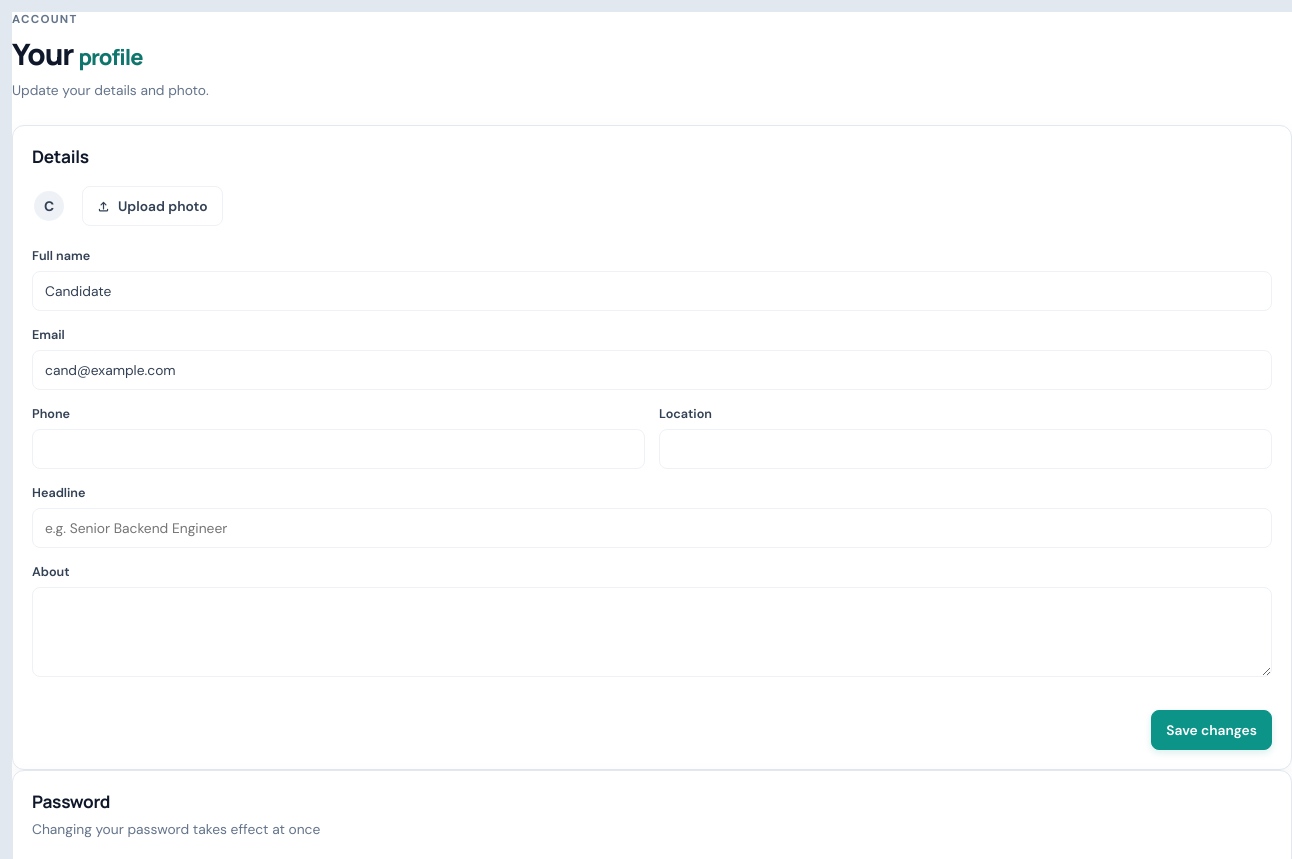
Test: ProfilePage › lets a candidate save their details
Step 1. Replace the text in the field labelled "Full name" with "Casey C" → [652, 291], box 32,271 -> 1272,311
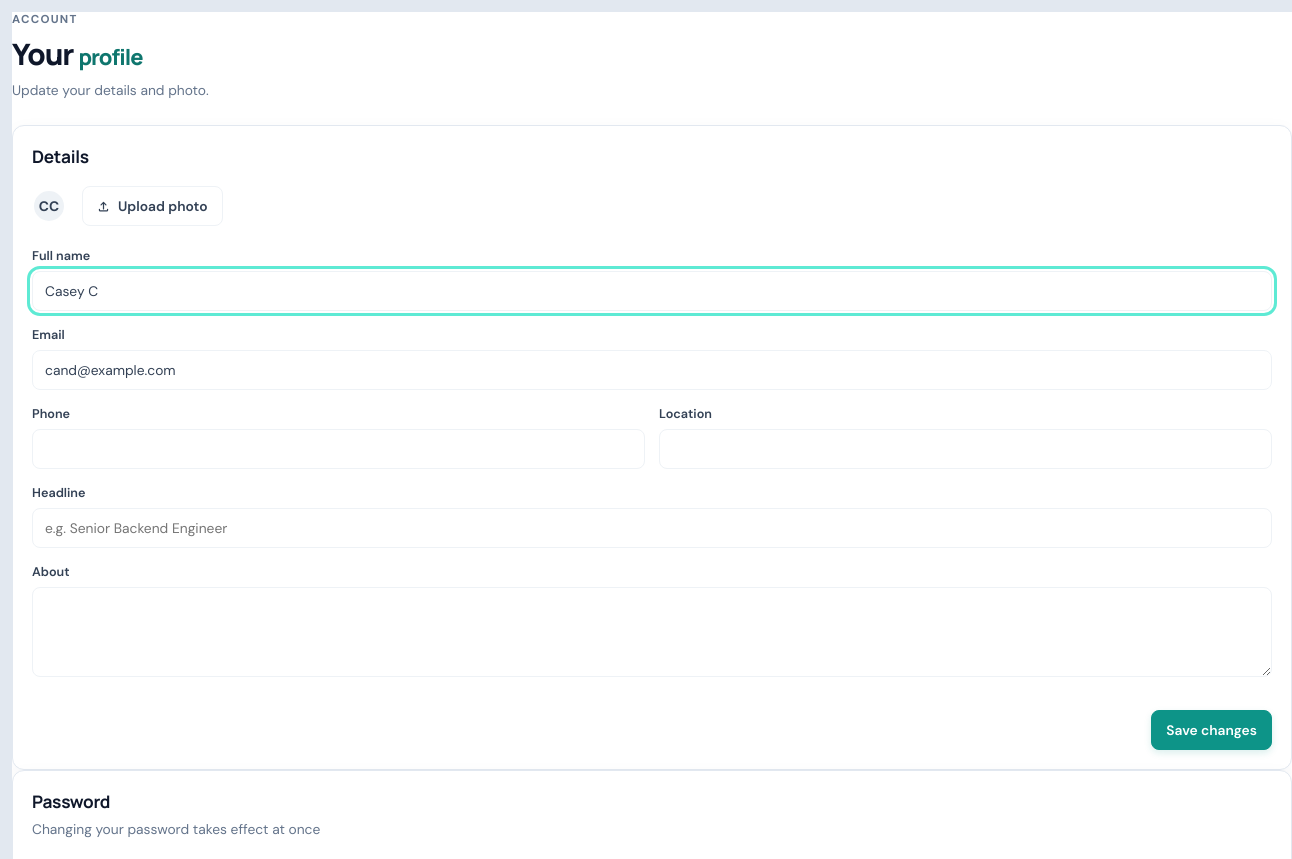
Step 2. Click the button "Save changes" → [1212, 730], box 1151,710 -> 1272,750
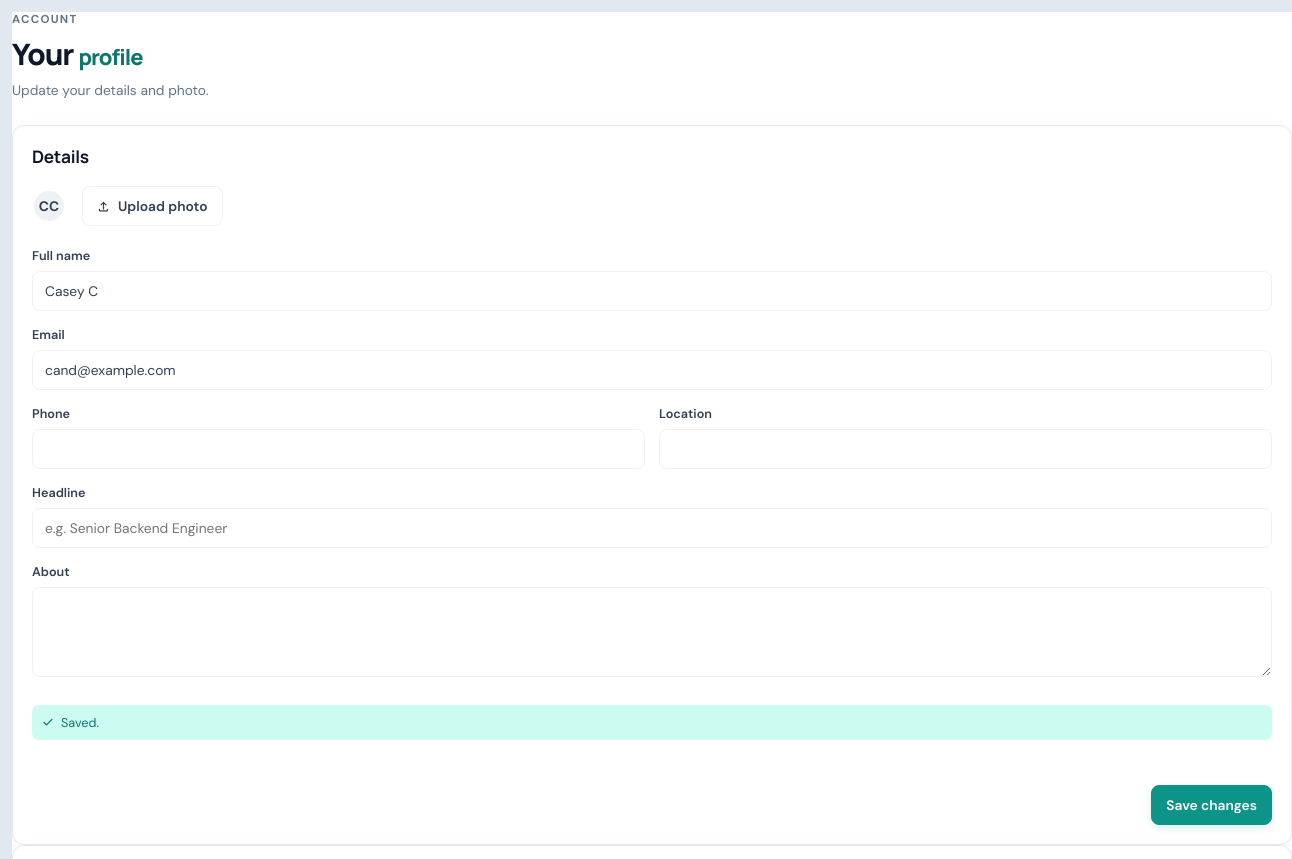
Result: the text "Saved." is shown at 32,705 -> 1272,740
